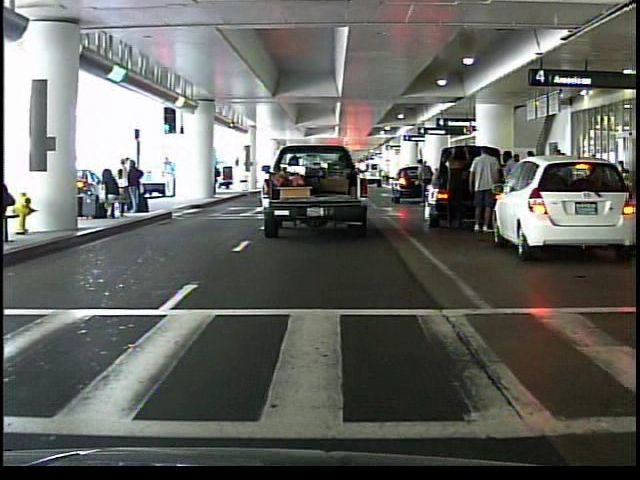person: (467, 144, 500, 238), (438, 141, 471, 233), (498, 147, 520, 232), (413, 154, 436, 209), (161, 155, 179, 199), (619, 158, 631, 179)
